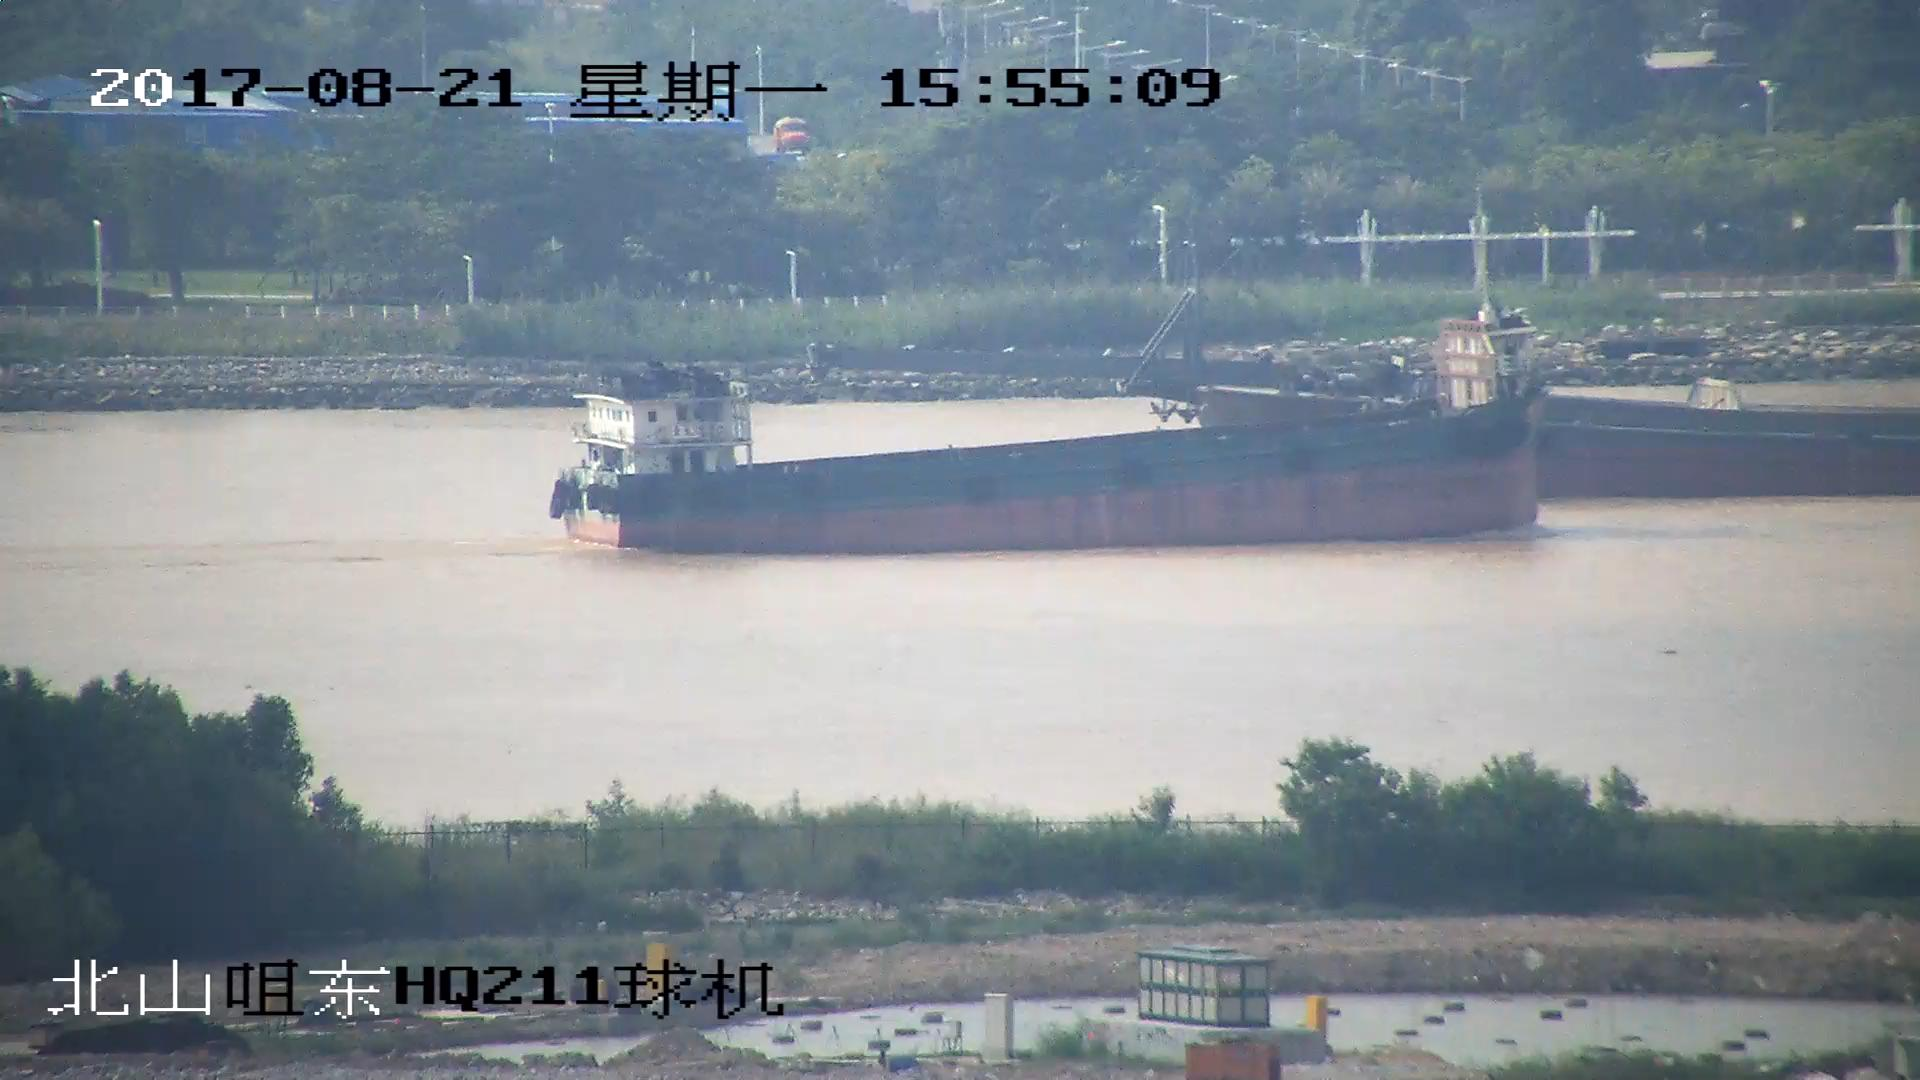bulk cargo carrier: (812, 274, 1920, 495)
general cargo ship: (548, 307, 1551, 561)
